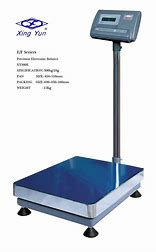Industrial Scale: (12, 9, 147, 238)
